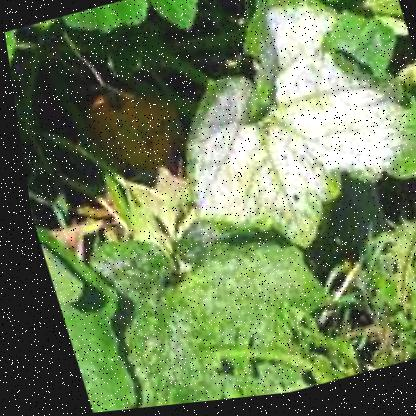PowderyMildew: (132, 0, 415, 232)
